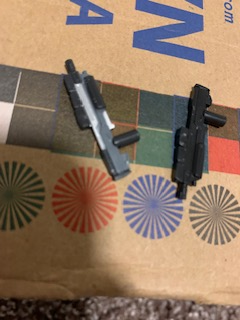rifle: (59, 56, 142, 180), (169, 84, 229, 204)
